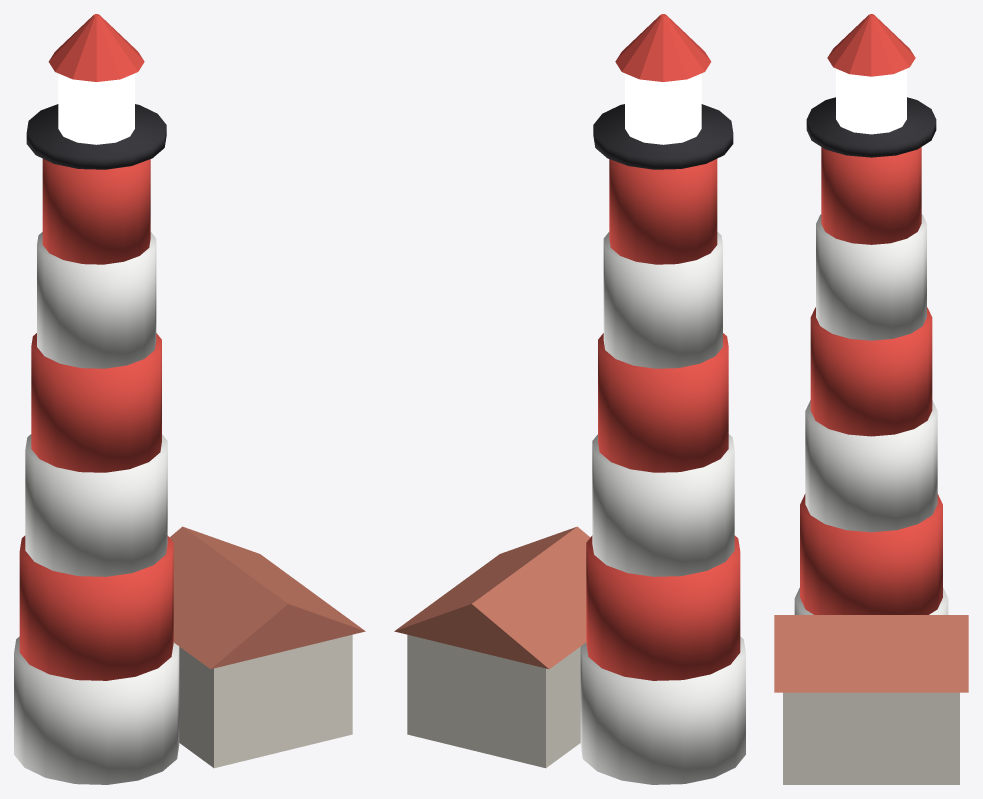
The model's file is lighthouse.glb.
3 renders of one model, left to right at view 1: azimuth 30°, elevation 25°; view 2: azimuth 150°, elevation 25°; view 3: azimuth 270°, elevation 25°, orthographic. The views are drawn at different scales.
Visible parts, largest first — view 1: Lighthouse; view 2: Lighthouse; view 3: Lighthouse.
Part boxes in pixels (box(x1,y1,x2,y2)): Lighthouse: box(14, 14, 365, 784); Lighthouse: box(394, 14, 745, 784); Lighthouse: box(774, 14, 968, 784).
Size of the model in its own units: 10.4 by 25.3 by 6.6.
